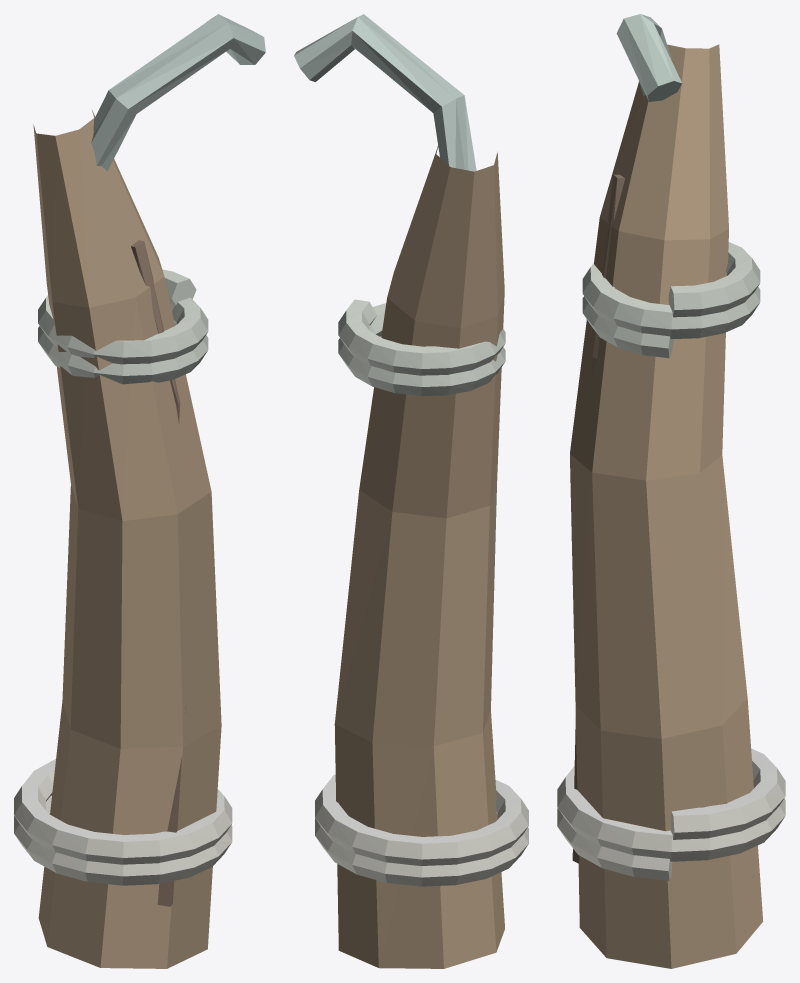
Rendered from silk_wrapped_support.glb.
3 views of the same model, side by side, from view 1: azimuth 30°, elevation 25°; view 2: azimuth 150°, elevation 25°; view 3: azimuth 270°, elevation 25° (orthographic). The views are drawn at different scales.
Parts seen in each view (by area): view 1: FacetedTwigSupport, FootSilkWrap, TopSilkWrap, SilkHook, BarkStripe; view 2: FacetedTwigSupport, FootSilkWrap, TopSilkWrap, SilkHook; view 3: FacetedTwigSupport, FootSilkWrap, TopSilkWrap, SilkHook, BarkStripe.
Part boxes in pixels (x1=…): FacetedTwigSupport: x1=33, y1=110, x2=221, y2=968; FootSilkWrap: x1=14, y1=759, x2=232, y2=885; TopSilkWrap: x1=38, y1=269, x2=208, y2=384; SilkHook: x1=91, y1=14, x2=265, y2=171; BarkStripe: x1=131, y1=240, x2=186, y2=906; FacetedTwigSupport: x1=334, y1=142, x2=504, y2=968; FootSilkWrap: x1=315, y1=774, x2=528, y2=886; TopSilkWrap: x1=338, y1=299, x2=505, y2=396; SilkHook: x1=294, y1=14, x2=476, y2=171; FacetedTwigSupport: x1=570, y1=44, x2=763, y2=968; FootSilkWrap: x1=557, y1=748, x2=785, y2=880; TopSilkWrap: x1=582, y1=242, x2=760, y2=358; SilkHook: x1=616, y1=14, x2=682, y2=101; BarkStripe: x1=572, y1=174, x2=625, y2=863.
Size of the model in its own units: 0.197 by 0.7484 by 0.1615.
